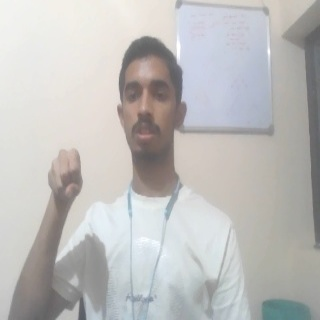Face: (116, 37, 188, 169)
Yes: (43, 146, 87, 206)
